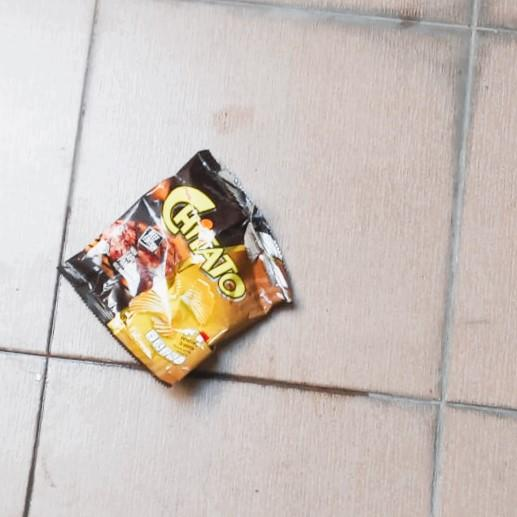Plastik: (56, 150, 295, 388)
